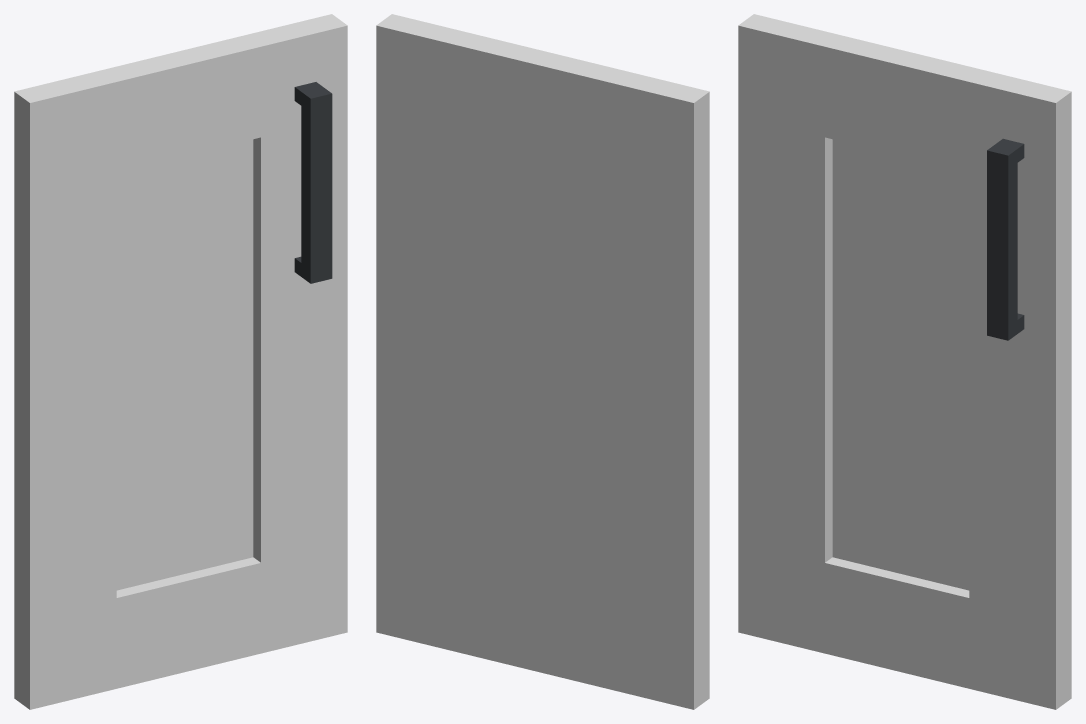
The model's file is Door2_C1_10.fbx.
The picture shows the model from 3 angles, left to right: view 1: azimuth 30°, elevation 25°; view 2: azimuth 150°, elevation 25°; view 3: azimuth 330°, elevation 25°; orthographic projection.
Visible parts, largest first — view 1: Door2_C1_10; view 2: Door2_C1_10; view 3: Door2_C1_10.
Part boxes in pixels (x1,y1,x2,y2): Door2_C1_10: [14, 14, 347, 709]; Door2_C1_10: [376, 14, 709, 709]; Door2_C1_10: [738, 14, 1071, 709].
Bounding box in the file's own units: 29 × 52.92 × 5.03.
